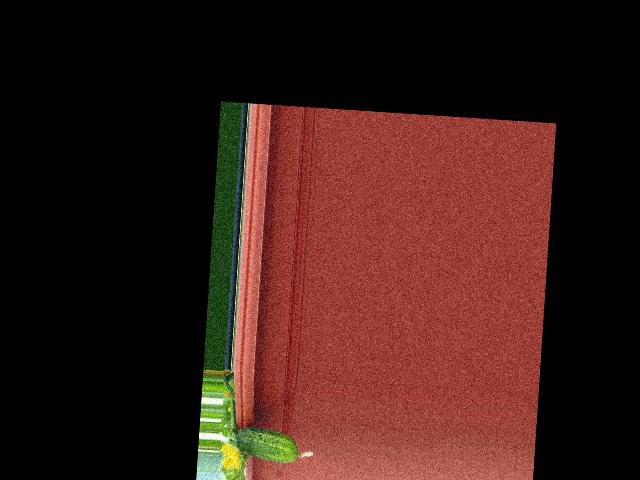cucumber: (234, 426, 315, 465)
